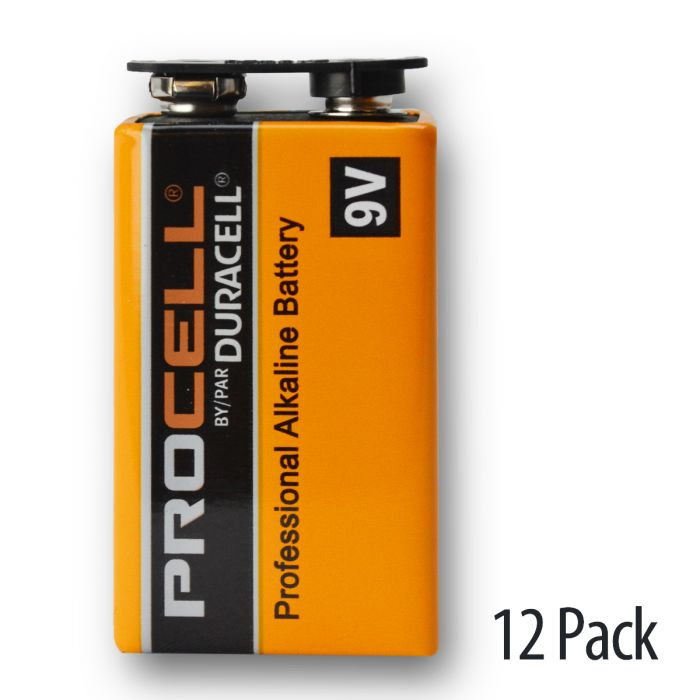9V: (104, 46, 466, 667)
